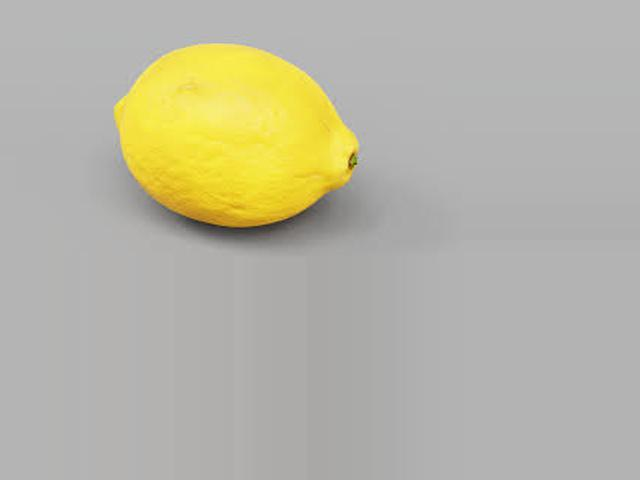lemon: (108, 30, 358, 222)
